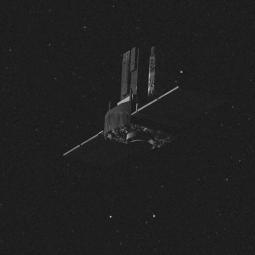soho: (82, 48, 206, 157)
